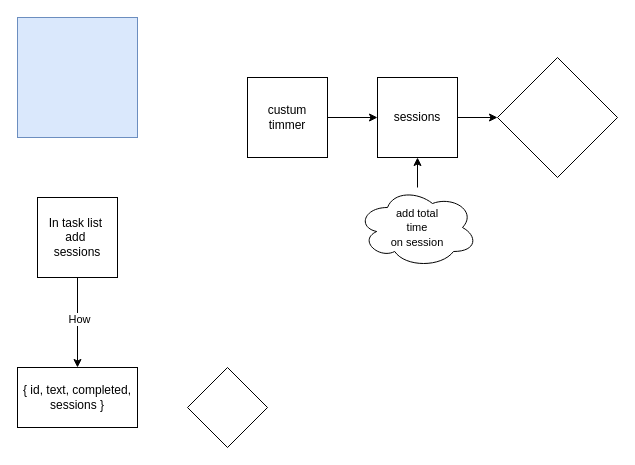
Image size: 635x465. Some labels were removed from this diagram. The shapes that lost their labels are listed below. From the top down, each one's centre as x and y in pixels, then its label:
At [77,77]: "task completed task id task text".
At [557,117]: "CRUD on session using ID".
